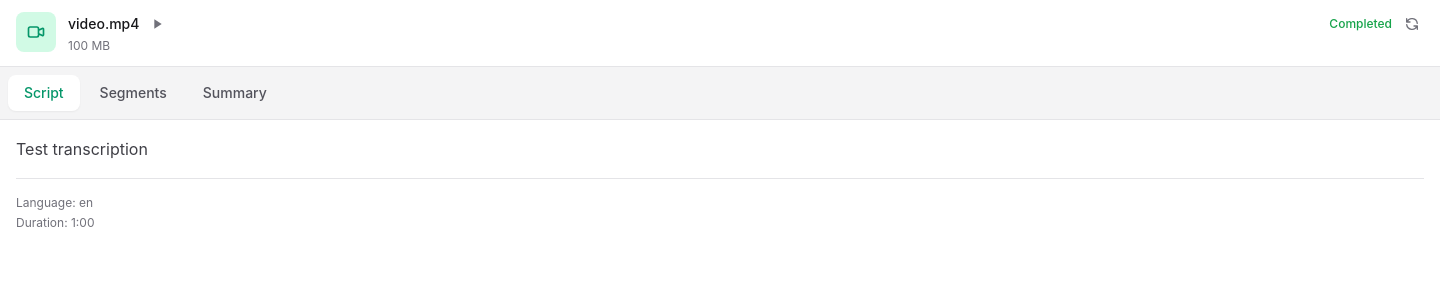
Test case: Inspector › Summary tab › shows error state with retry button when summaryStatus is error
The width and height of the screenshot is (1440, 305).
// Click on Summary tab
Click the tab "Summary": (235, 93) 187,75 -> 283,111
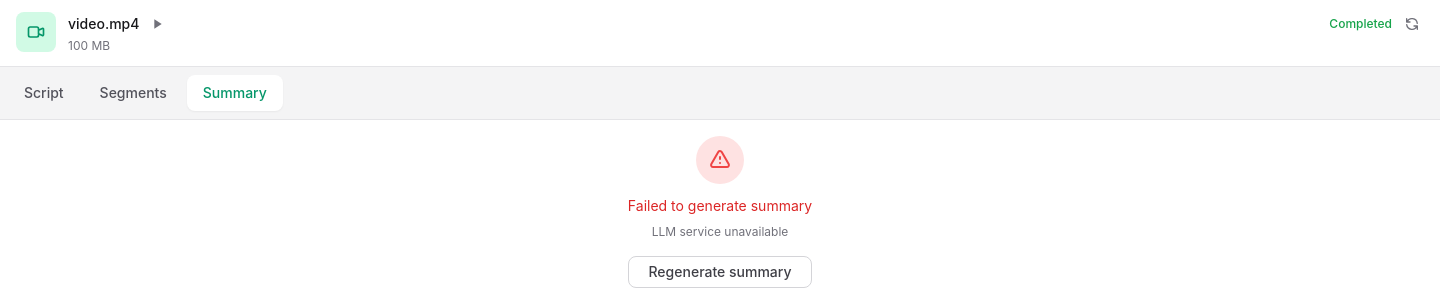
expect the text "Failed to generate summary" is shown: met, box 628,196 -> 812,216
expect the text "LLM service unavailable" is shown: met, box 652,224 -> 788,239
expect the button "Regenerate summary" is shown: met, box 628,256 -> 812,288
